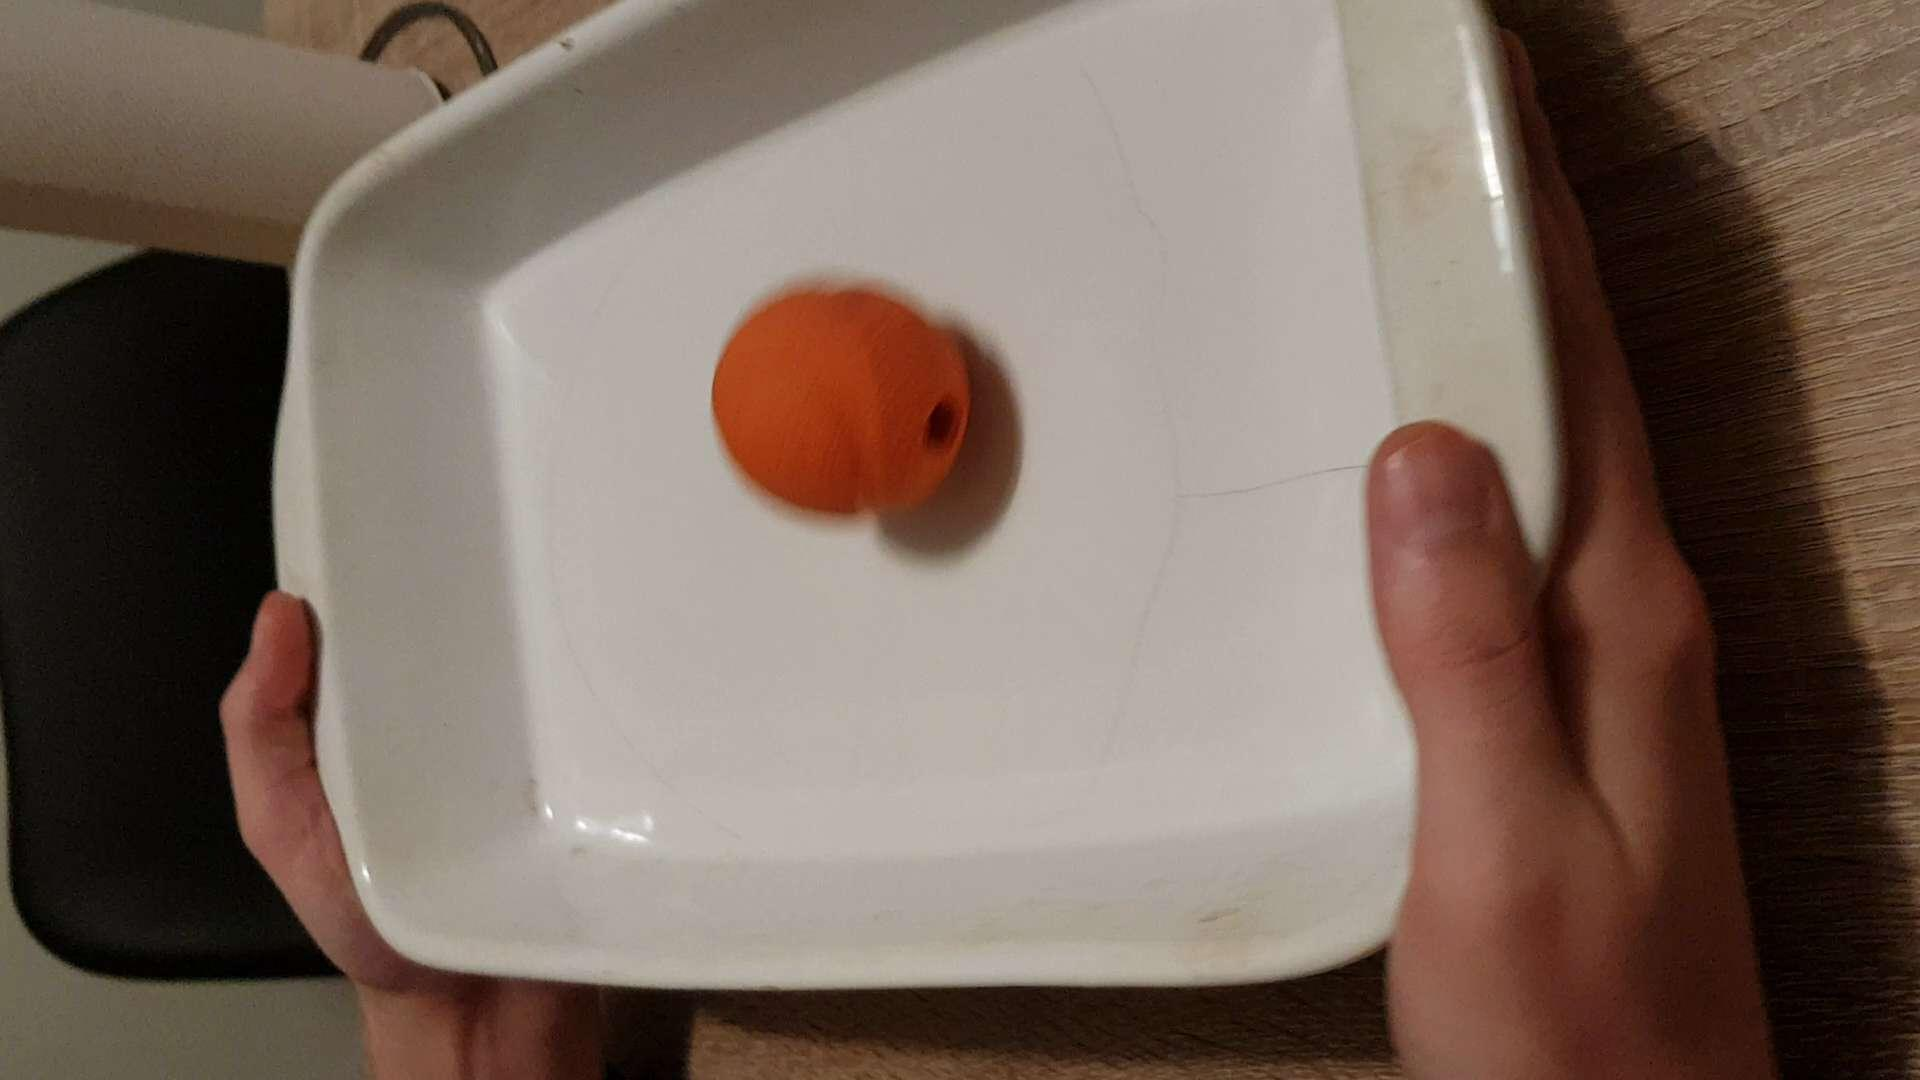sphere: (704, 273, 975, 535)
